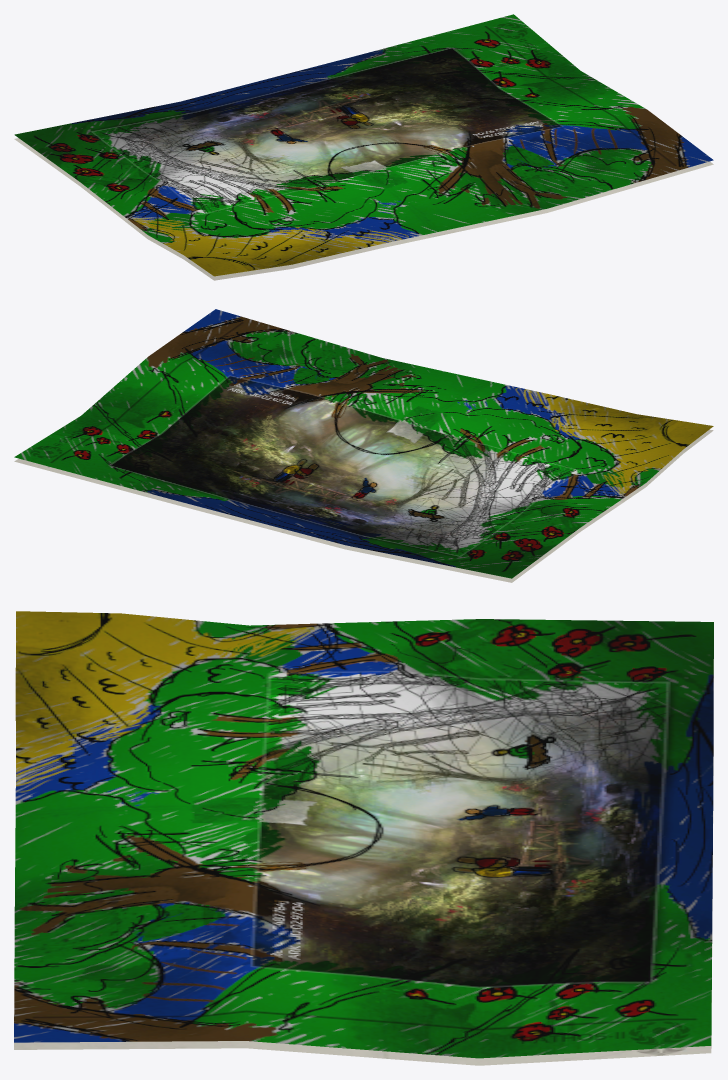
Rendered from 02_05_photo_bass_collage02.dae.
3 renders of one model, top to bottom at view 1: azimuth 30°, elevation 25°; view 2: azimuth 150°, elevation 25°; view 3: azimuth 270°, elevation 25°, orthographic. The views are drawn at different scales.
Visible parts, largest first — view 1: bass_collage02; view 2: bass_collage02; view 3: bass_collage02.
Boxes of the visible parts, x1,y1,x2,y2 form: bass_collage02: (14, 14, 713, 280); bass_collage02: (14, 309, 713, 582); bass_collage02: (14, 611, 713, 1065).
Size of the model in its own units: 35.12 by 1.37 by 24.54.
